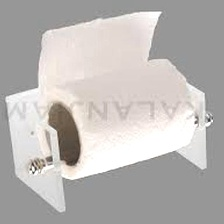tissue: (28, 4, 204, 186)
